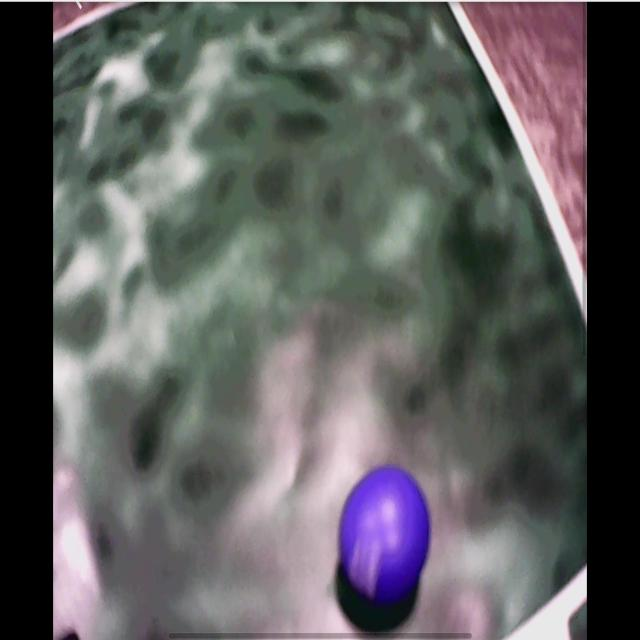ball: (340, 467, 432, 602)
